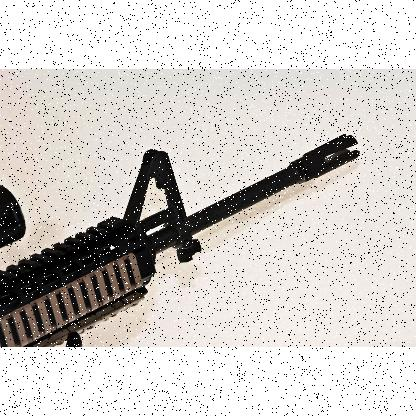gun: (0, 122, 342, 344)
